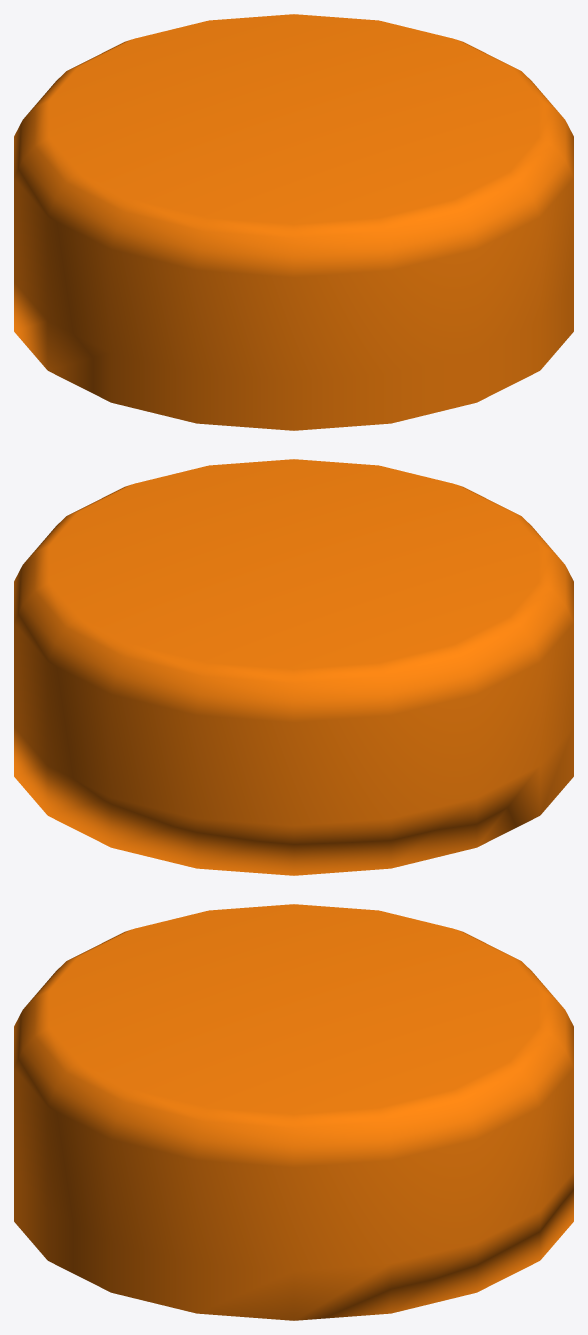
The model's file is head cylinder.fbx.
The picture shows the model from 3 angles, top to bottom: view 1: azimuth 30°, elevation 25°; view 2: azimuth 150°, elevation 25°; view 3: azimuth 270°, elevation 25°; orthographic projection.
Parts seen in each view (by area): view 1: head_cylinder; view 2: head_cylinder; view 3: head_cylinder.
Boxes of the visible parts, box(x1,y1,x2,y2) form: head_cylinder: box(14, 14, 573, 430); head_cylinder: box(14, 459, 573, 875); head_cylinder: box(14, 904, 573, 1320).
Size of the model in its own units: 60.87 by 22.62 by 59.94.
